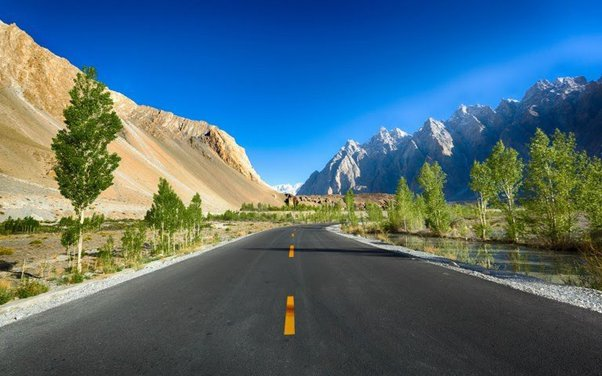straightRoad: (206, 223, 388, 376)
